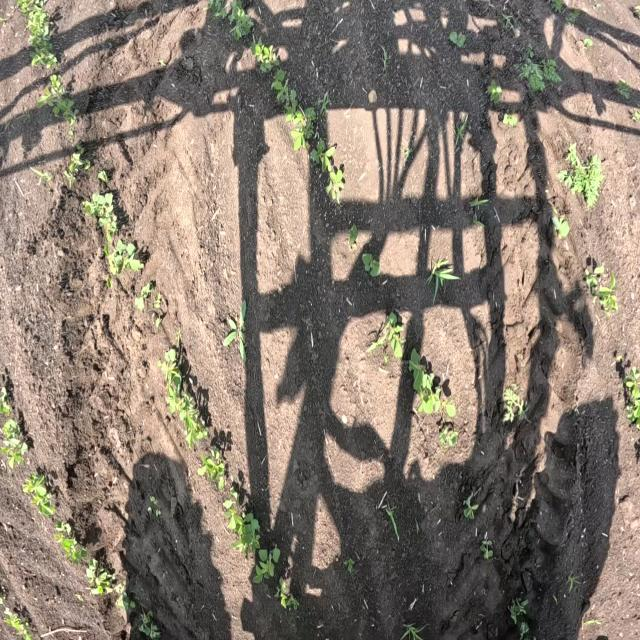plants: (558, 138, 606, 206), (412, 350, 456, 420), (311, 134, 350, 201), (223, 290, 255, 360), (515, 43, 560, 92), (207, 0, 257, 40), (580, 260, 619, 310), (375, 305, 407, 360), (428, 248, 459, 304), (46, 78, 79, 130), (24, 473, 60, 519), (87, 186, 120, 232), (84, 558, 120, 600), (108, 237, 145, 277), (623, 352, 640, 438), (158, 338, 190, 382), (0, 418, 27, 468), (62, 142, 94, 184), (499, 383, 527, 431), (373, 485, 400, 534), (228, 511, 258, 554), (284, 89, 308, 141), (0, 599, 30, 640), (544, 0, 582, 32), (198, 442, 225, 485), (24, 1, 55, 38), (140, 284, 167, 326), (30, 38, 61, 74), (507, 596, 531, 640), (607, 69, 633, 109), (468, 176, 489, 225), (274, 572, 300, 610), (184, 408, 210, 444), (54, 522, 78, 558), (546, 209, 573, 241), (167, 385, 198, 411), (448, 113, 470, 149), (265, 61, 290, 92), (244, 38, 277, 61), (398, 608, 421, 640), (457, 488, 477, 524), (138, 607, 160, 639), (359, 246, 383, 275), (440, 418, 463, 448), (225, 483, 247, 511), (566, 563, 585, 595), (256, 552, 276, 582), (497, 104, 522, 128), (451, 25, 468, 60), (346, 223, 364, 256), (487, 73, 505, 104), (479, 530, 496, 562), (145, 493, 162, 522), (118, 587, 136, 613), (452, 116, 465, 146), (0, 383, 15, 407), (579, 32, 595, 52), (630, 110, 640, 130)
